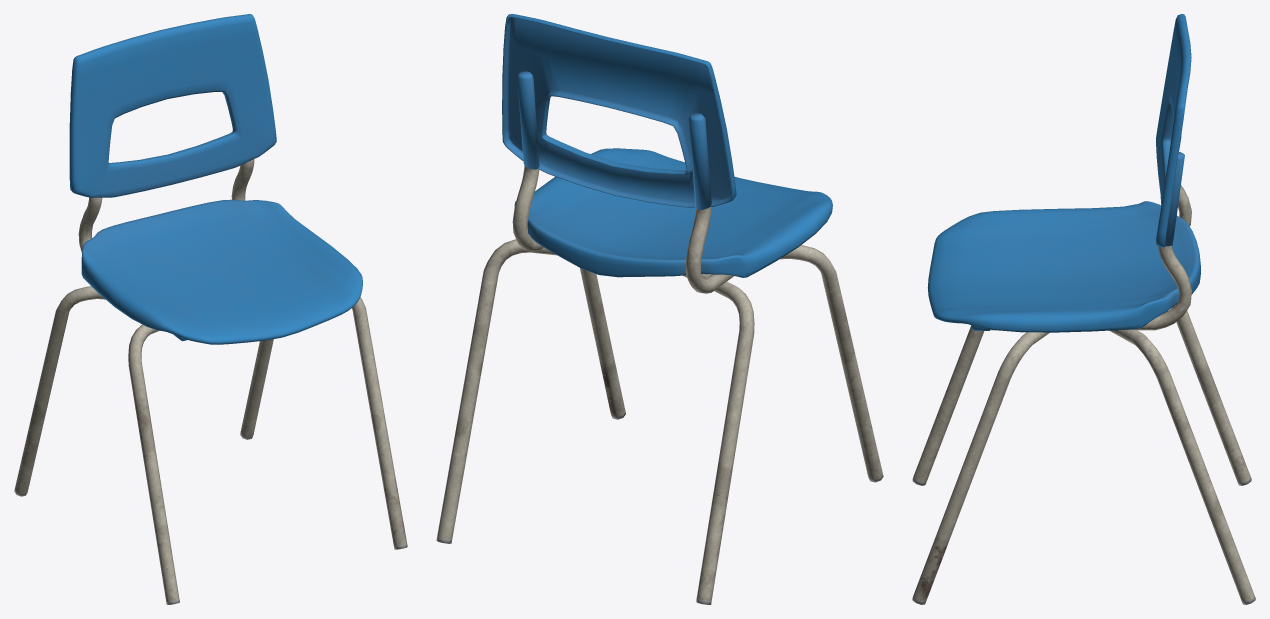
File: AlphaSchoolChair-new.fbx
3 renders of one model, left to right at view 1: azimuth 30°, elevation 25°; view 2: azimuth 150°, elevation 25°; view 3: azimuth 270°, elevation 25°, orthographic. The views are drawn at different scales.
Visible parts, largest first — view 1: schoolchair01-new; view 2: schoolchair01-new; view 3: schoolchair01-new.
Boxes of the visible parts, x1=… form: schoolchair01-new: x1=14, y1=14, x2=407, y2=604; schoolchair01-new: x1=436, y1=14, x2=883, y2=604; schoolchair01-new: x1=912, y1=14, x2=1255, y2=604.
Size of the model in its own units: 44.87 by 81.79 by 52.19.
